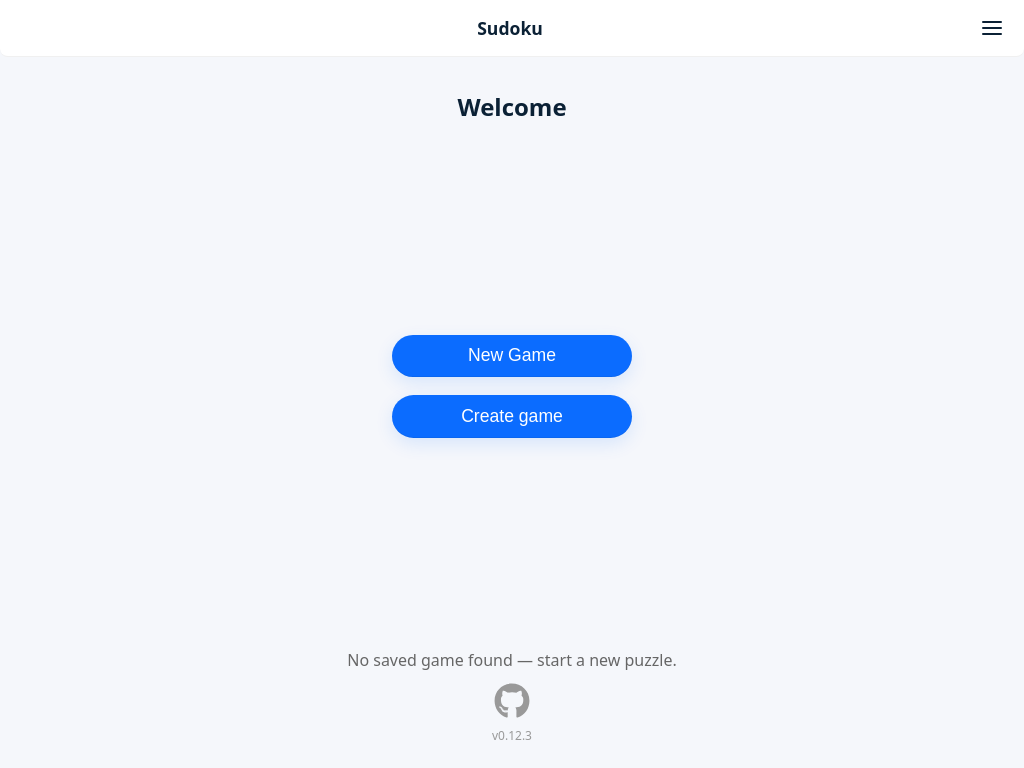
App › opens settings dialog when settings button clicked
The image size is (1024, 768).
Click the button named "menu" at [992, 28], box [972,8,1012,48]
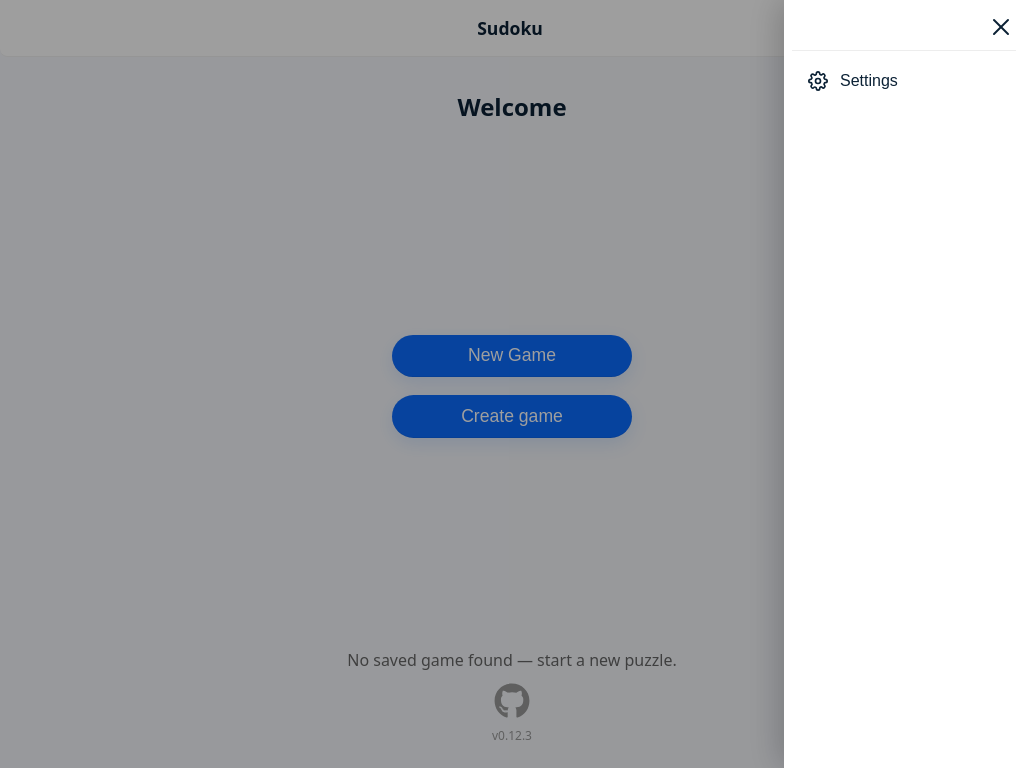
Click the menu item "Settings" at [904, 81], box [792,59,1016,103]
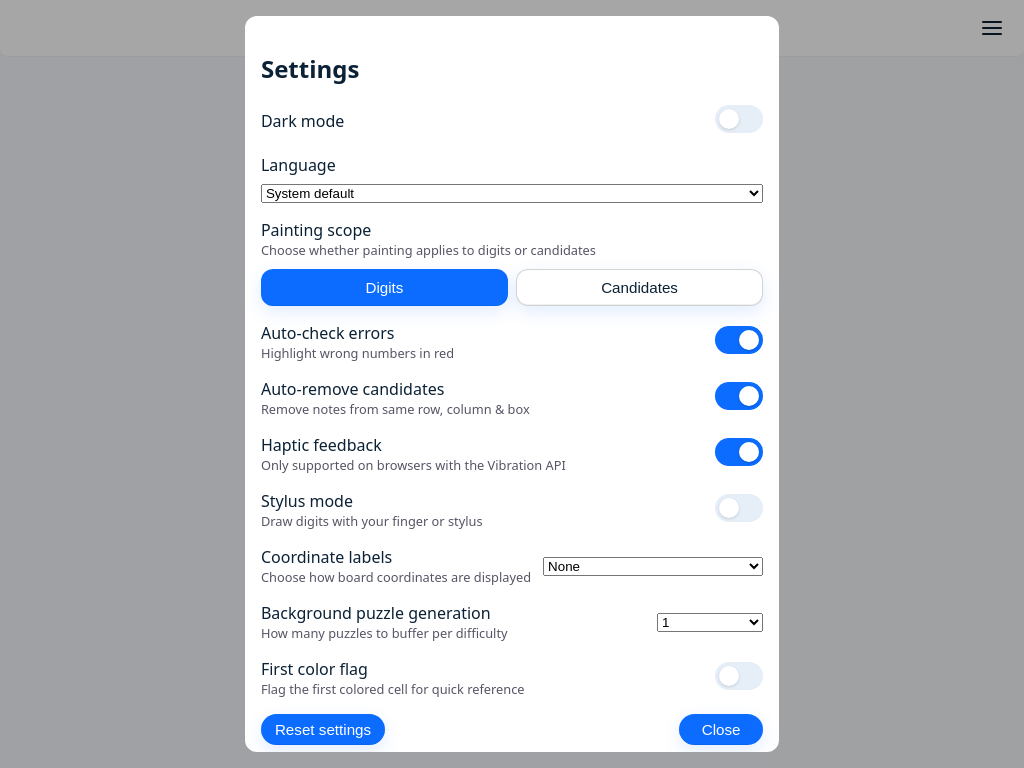
Expected: the dialog is shown
Expected: the heading "Settings" is shown, [261,52,359,85]
Expected: the element named "painting scope" is shown, [261,269,763,306]
